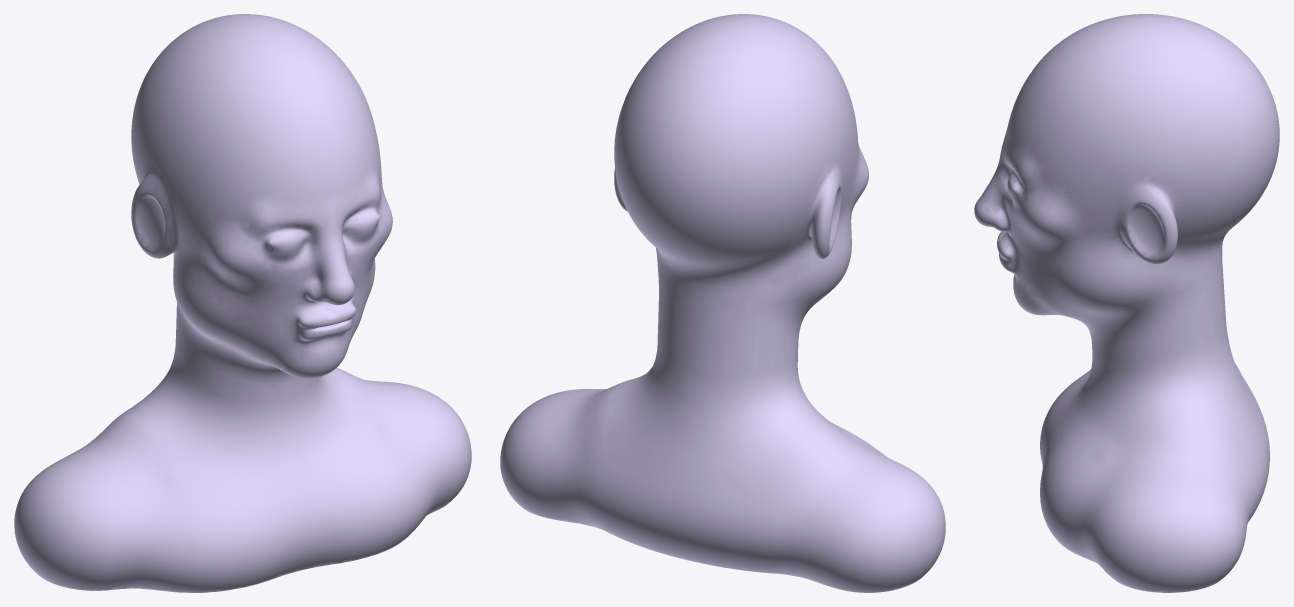
The model's file is bust.glb.
The picture shows the model from 3 angles, left to right: view 1: azimuth 30°, elevation 25°; view 2: azimuth 150°, elevation 25°; view 3: azimuth 270°, elevation 25°; orthographic projection. The views are drawn at different scales.
Size of the model in its own units: 0.3182 by 0.358 by 0.2076.
